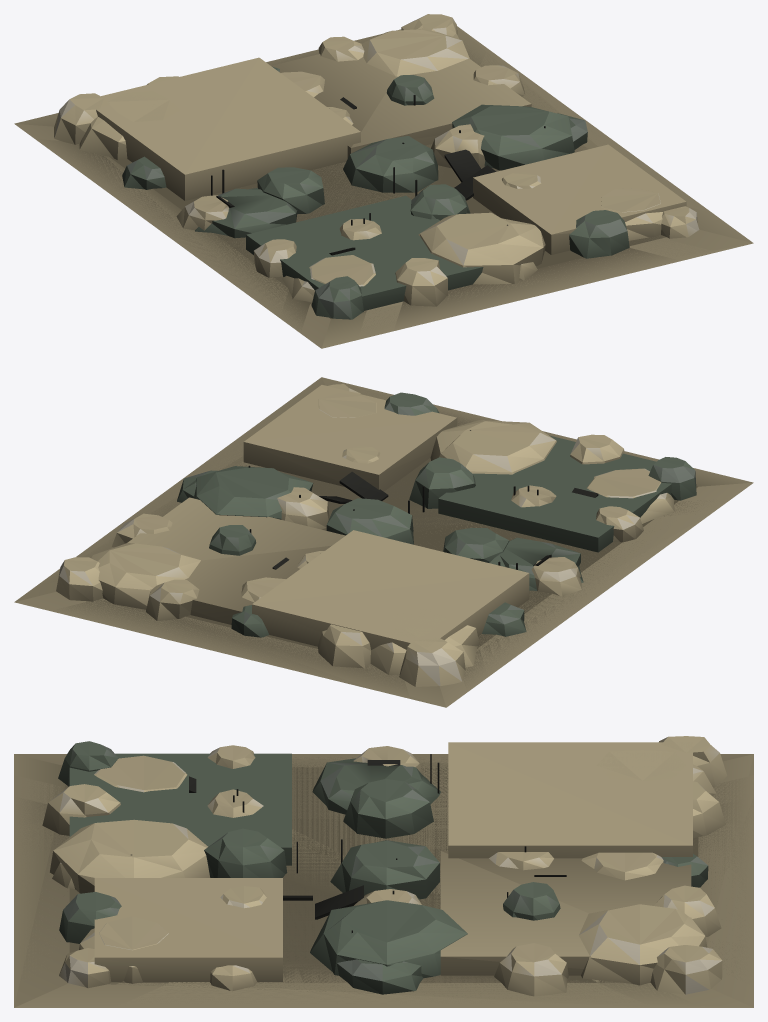
Rendered from neutral_rubble_4x5.glb.
3 renders of one model, top to bottom at view 1: azimuth 30°, elevation 25°; view 2: azimuth 150°, elevation 25°; view 3: azimuth 270°, elevation 25°, orthographic. The views are drawn at different scales.
Visible parts, largest first — view 1: body (×3); view 2: body (×3); view 3: body (×3).
Boxes of the visible parts, x1=… form: body (×3): x1=14, y1=14, x2=753, y2=348; body (×3): x1=14, y1=377, x2=753, y2=707; body (×3): x1=14, y1=736, x2=753, y2=1007.
Size of the model in its own units: 11.04 by 0.866 by 13.6.
